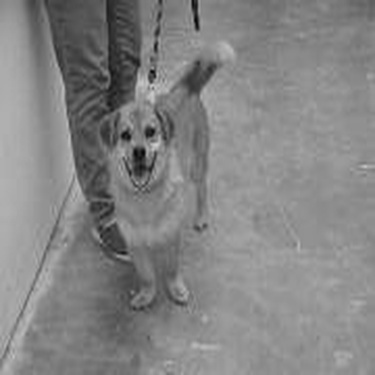dog: (94, 29, 238, 315)
